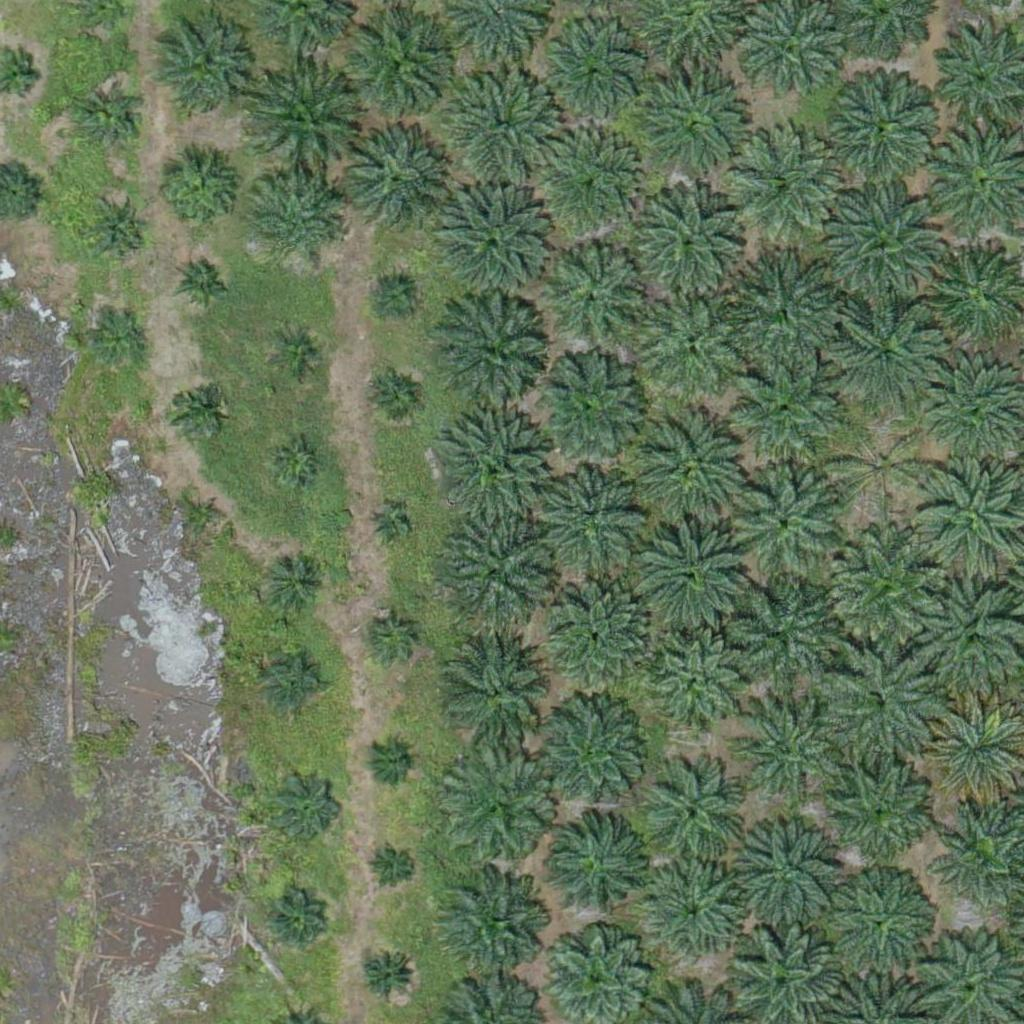Kelapa_Sawit: (636, 66, 761, 192), (621, 174, 746, 300), (450, 68, 563, 182), (443, 754, 556, 868), (826, 69, 939, 182), (336, 124, 449, 237), (440, 413, 553, 526), (441, 515, 554, 628), (441, 630, 554, 743), (528, 124, 641, 237), (637, 285, 750, 398), (724, 578, 837, 691), (732, 470, 845, 583), (728, 353, 841, 466), (722, 255, 835, 368), (828, 531, 941, 644), (824, 649, 937, 762), (820, 754, 933, 867), (533, 699, 646, 812), (342, 12, 454, 126), (250, 68, 362, 182), (728, 124, 840, 238), (828, 184, 940, 298), (436, 873, 548, 987), (438, 190, 550, 303), (438, 302, 550, 415), (535, 351, 647, 464), (542, 236, 654, 349), (640, 409, 752, 522), (636, 516, 748, 629), (830, 296, 942, 409), (732, 694, 844, 807), (831, 418, 931, 519), (541, 29, 641, 130), (551, 582, 651, 683), (547, 468, 647, 569), (648, 636, 748, 737), (830, 874, 930, 975), (737, 819, 837, 920), (645, 768, 745, 869), (150, 25, 250, 125), (646, 861, 746, 961), (550, 815, 650, 915), (152, 148, 239, 236), (252, 175, 339, 263), (270, 767, 345, 842), (87, 200, 150, 263), (266, 894, 329, 957), (356, 944, 419, 1007), (81, 90, 143, 153), (266, 554, 328, 617), (265, 651, 327, 714), (175, 252, 237, 315), (368, 611, 418, 662), (364, 735, 414, 786), (94, 319, 144, 369), (170, 383, 220, 433), (272, 439, 322, 489), (273, 330, 323, 380), (368, 843, 418, 893), (370, 271, 420, 321), (371, 374, 421, 424), (187, 497, 225, 535), (370, 506, 408, 544)
